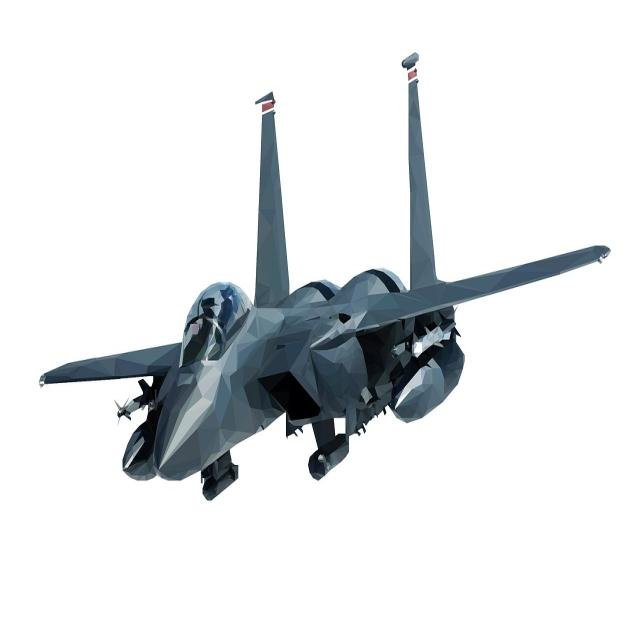F15: (18, 51, 613, 505)
